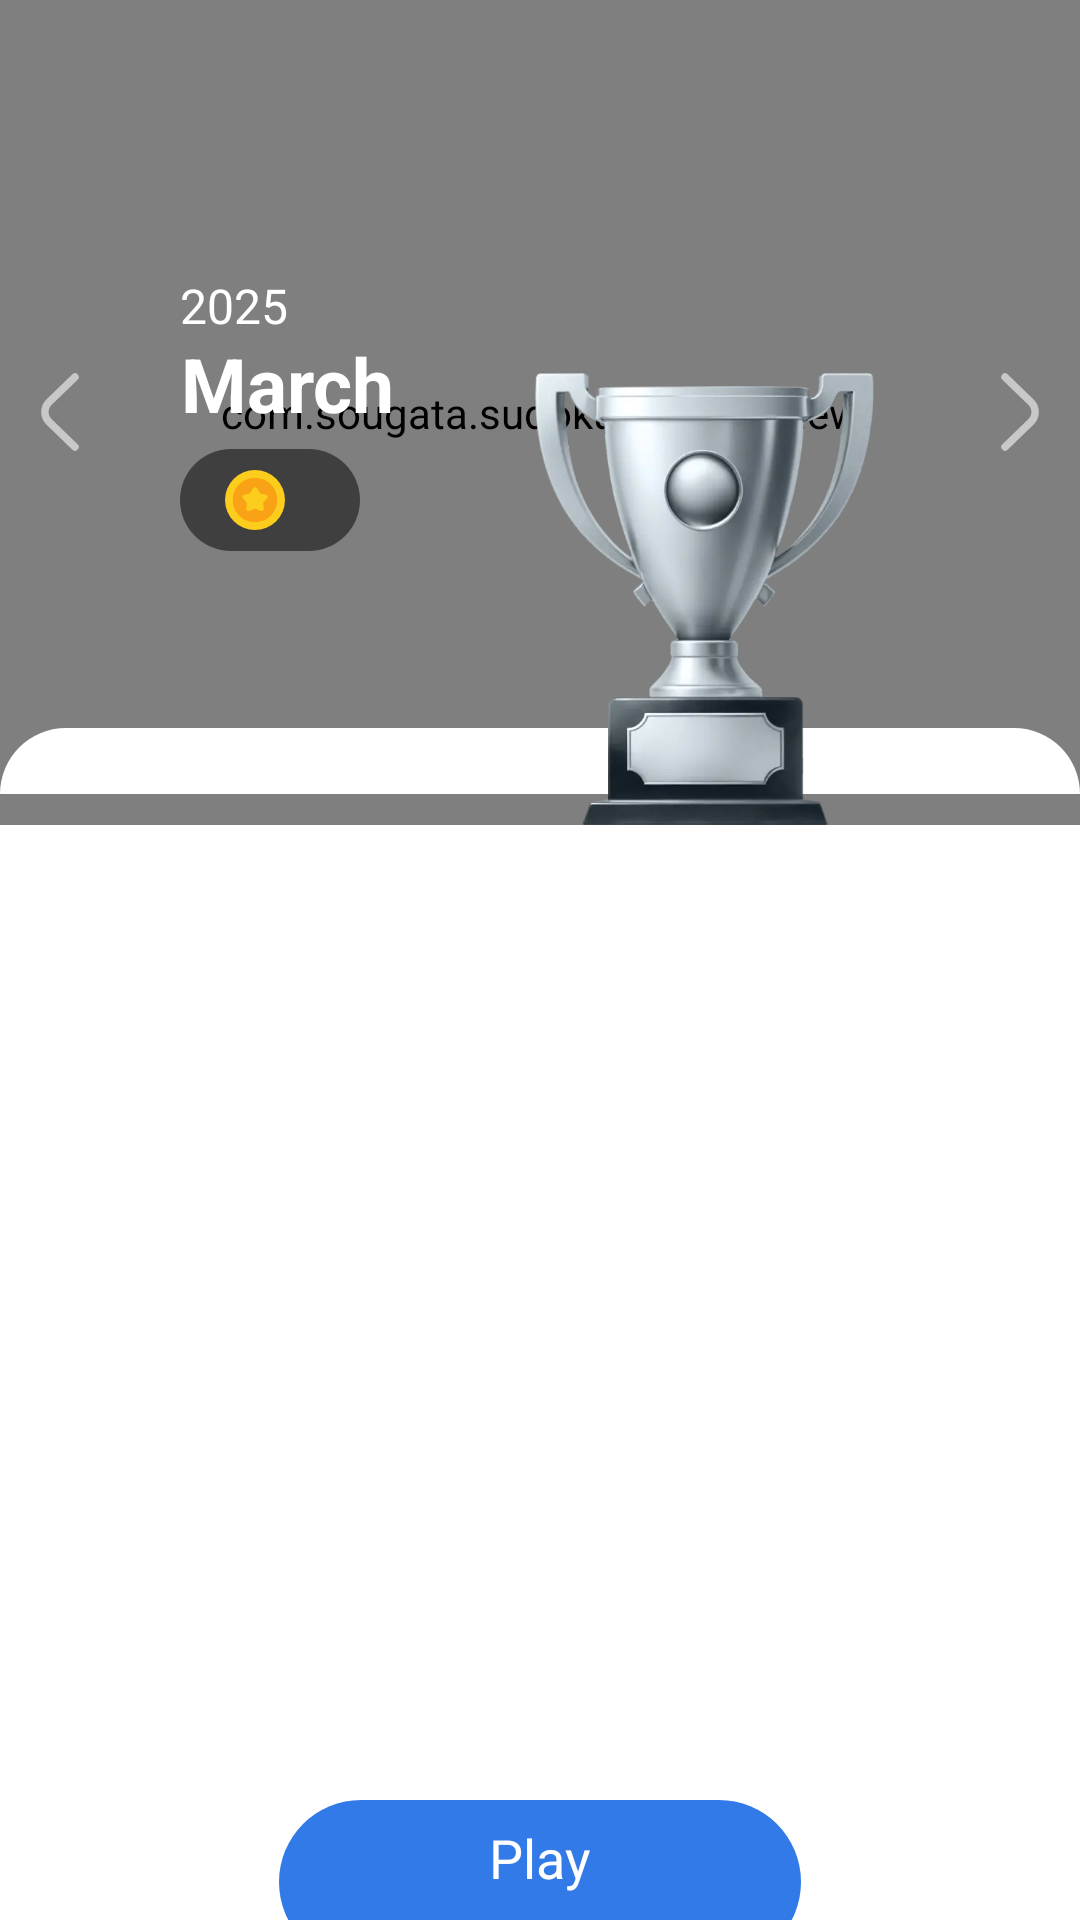

Icons on this 1080px×1920px Android screen, each with its box as (x1, y1, x2, y2):
medal: (225, 470, 285, 530)
